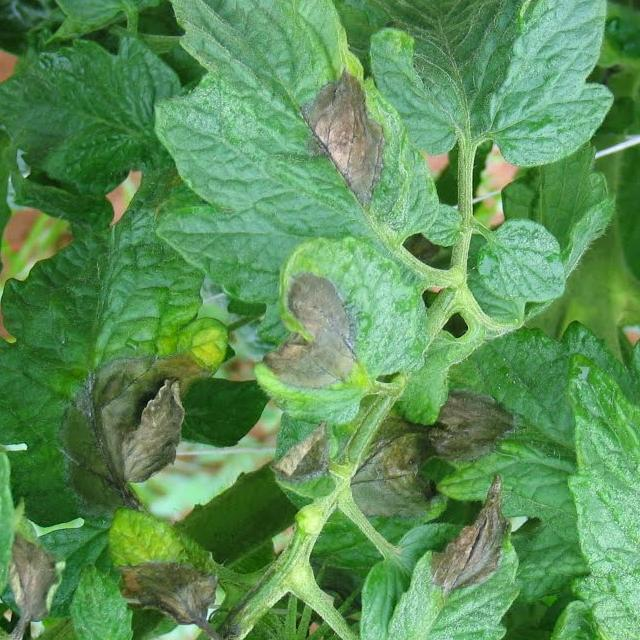Tomato leaf late blight: (150, 0, 444, 309), (0, 188, 212, 552), (254, 237, 431, 410), (100, 493, 225, 640), (392, 490, 512, 640)
